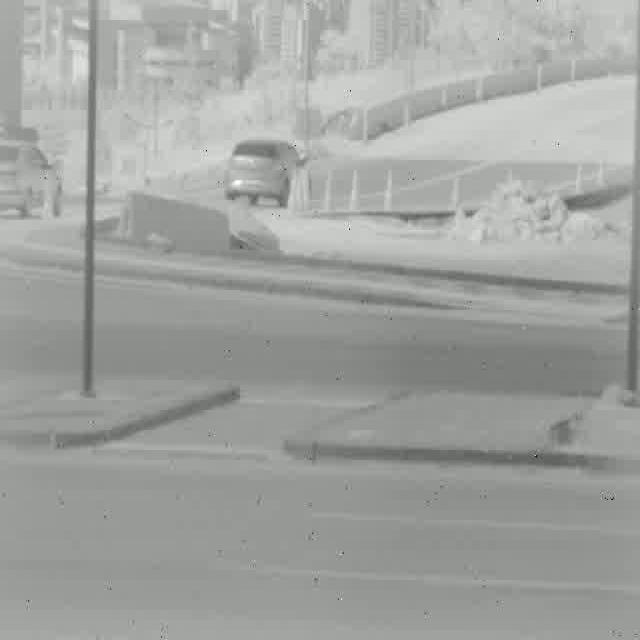Car: (226, 138, 308, 204), (0, 142, 60, 218)
